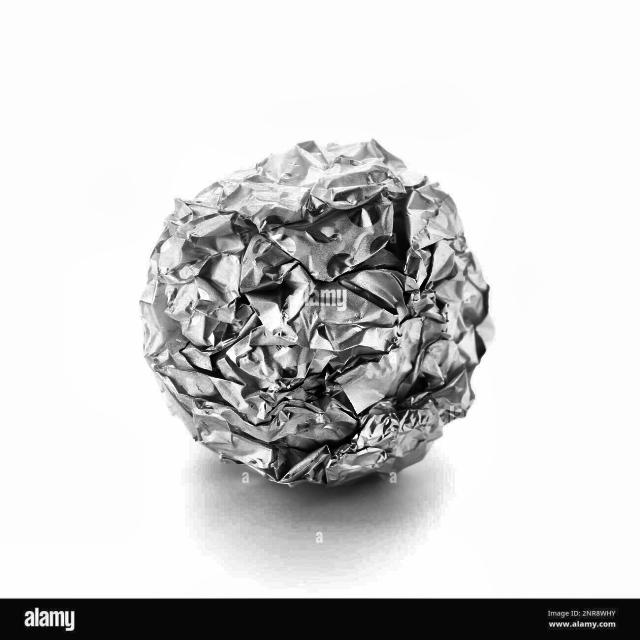Foil: (123, 123, 512, 506)
